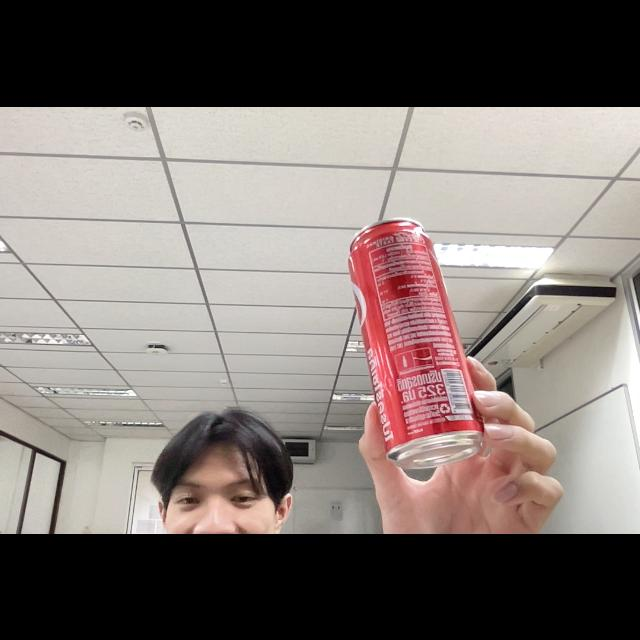plastic_bottle: (344, 213, 491, 461)
